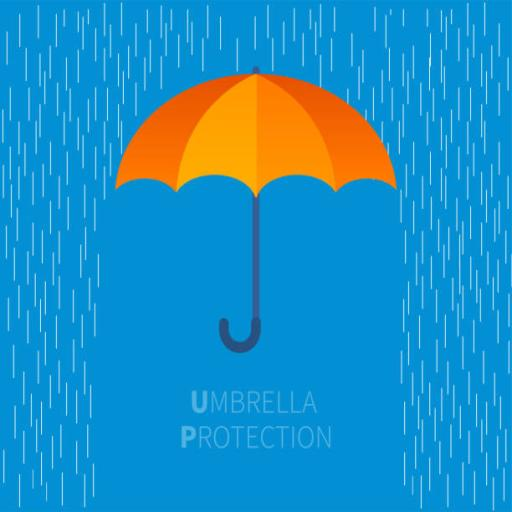guarda_chuva: (114, 66, 396, 353)
